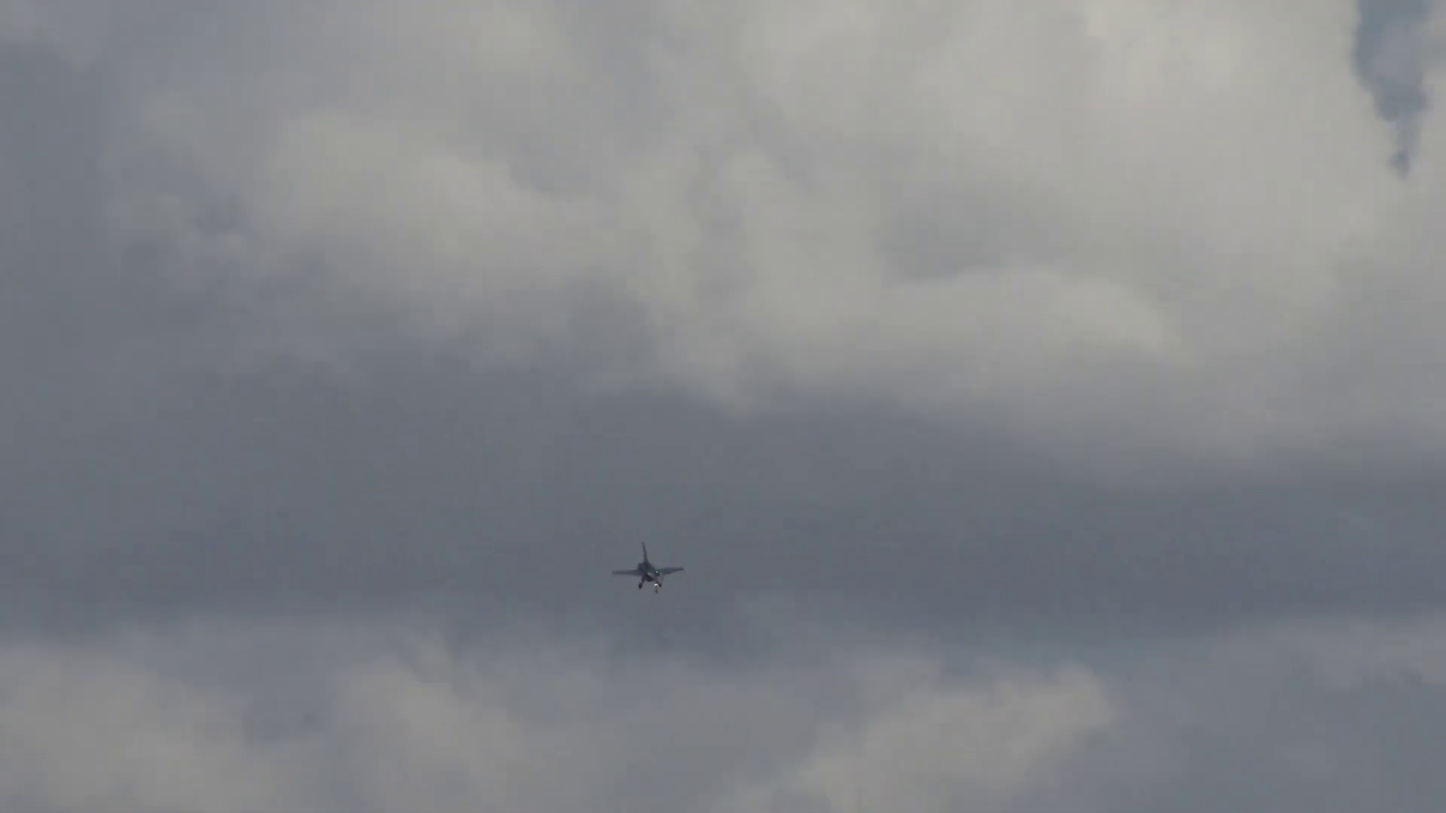Rafale: (610, 540, 685, 591)
